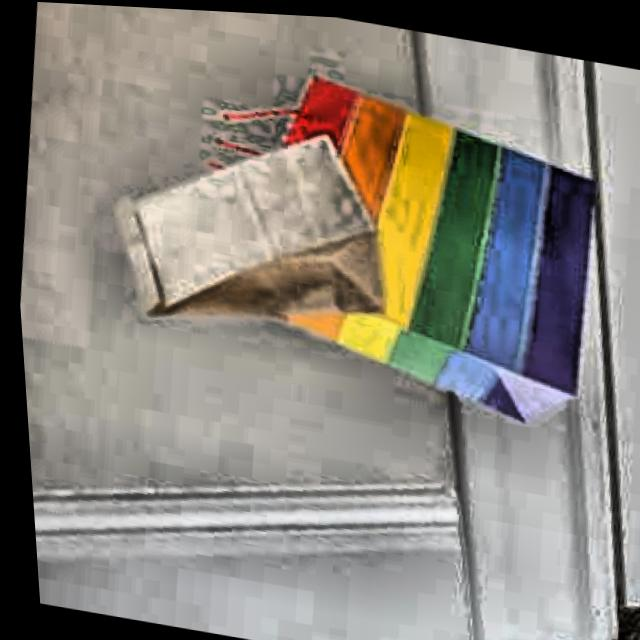Paper-bag: (161, 49, 638, 449), (90, 119, 418, 360)
